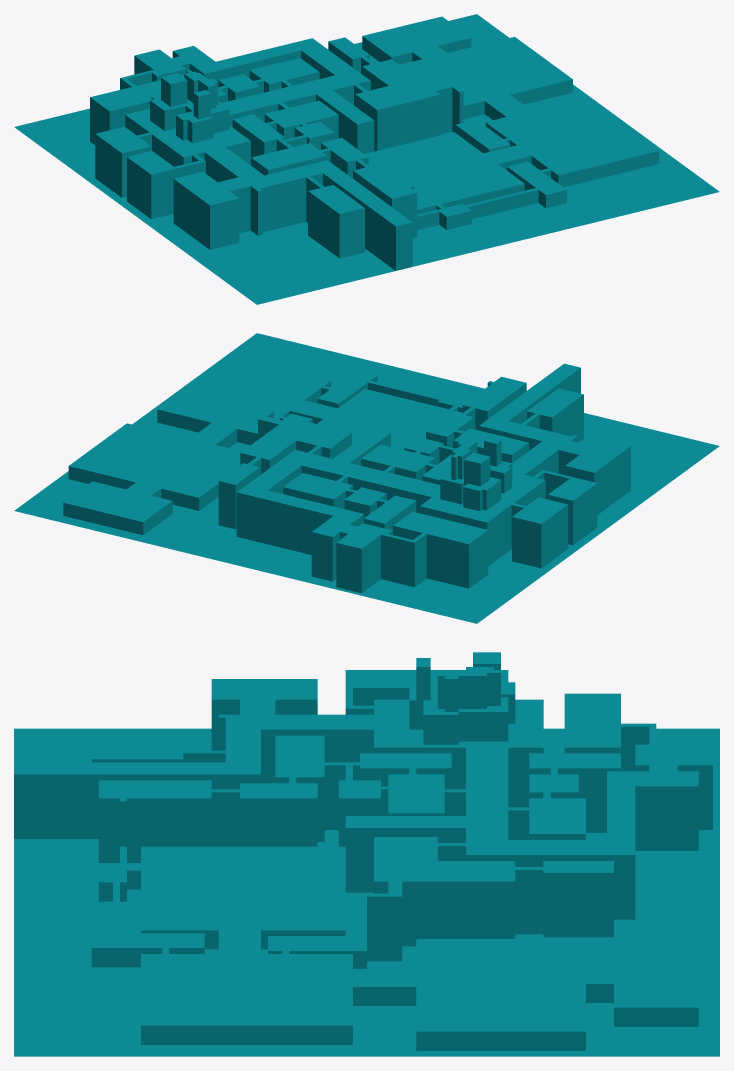
File: level 3.fbx
The picture shows the model from 3 angles, top to bottom: view 1: azimuth 30°, elevation 25°; view 2: azimuth 150°, elevation 25°; view 3: azimuth 270°, elevation 25°; orthographic projection. The views are drawn at different scales.
Parts seen in each view (by area): view 1: pPlane1; view 2: pPlane1; view 3: pPlane1.
Boxes of the visible parts, x1=… form: pPlane1: x1=14, y1=14, x2=719, y2=304; pPlane1: x1=14, y1=333, x2=719, y2=623; pPlane1: x1=14, y1=652, x2=719, y2=1056.
Bounding box in the file's own units: 1100 × 199 × 1000.
